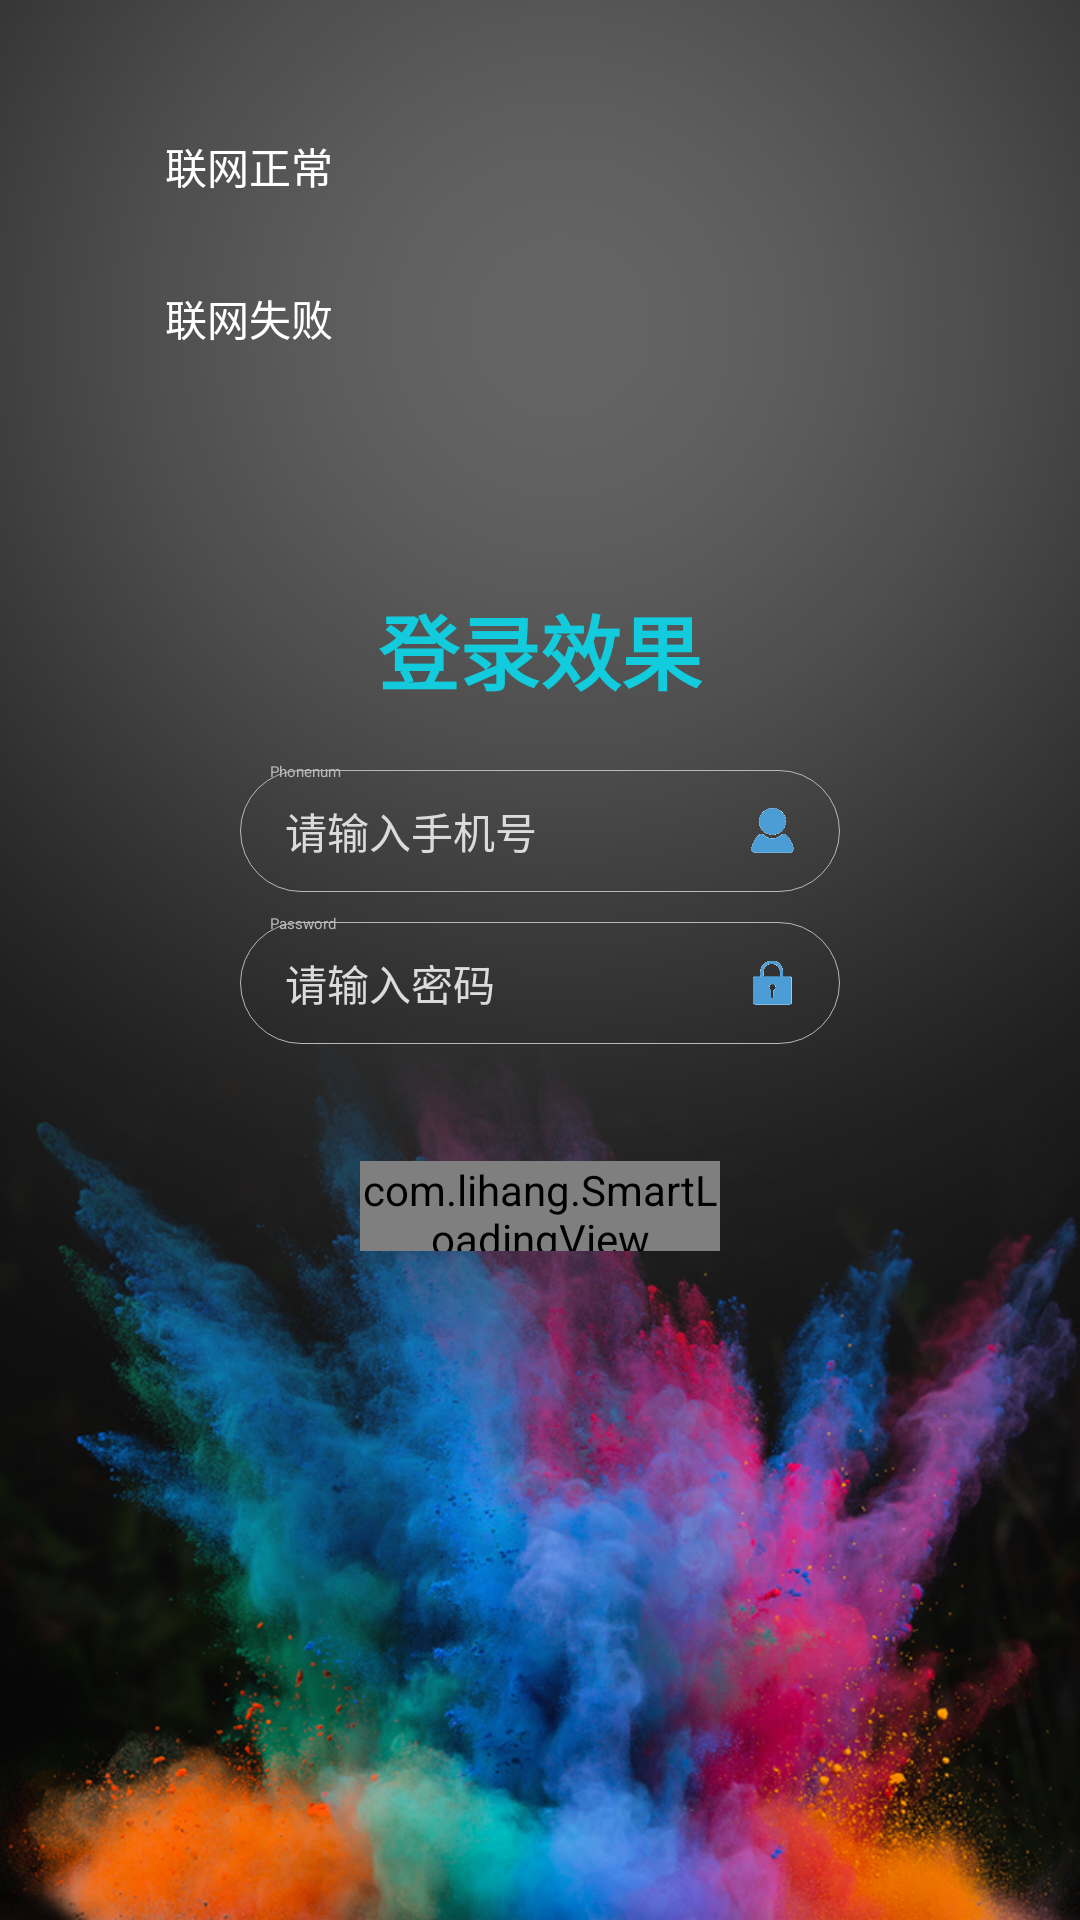

Named icons in this screenshot (1080 × 1920) and their centers, (x,y):
login password: (772,983)
